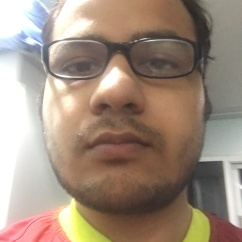glasses: (41, 35, 197, 81)
